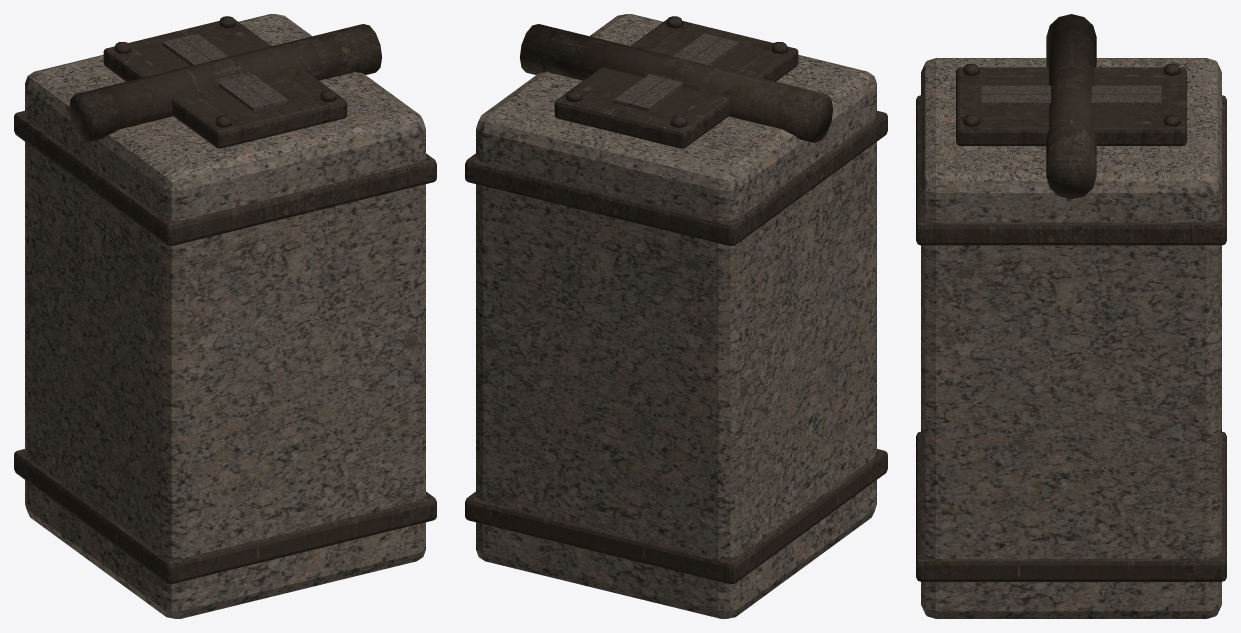
The model's file is lever_base.glb.
The picture shows the model from 3 angles, left to right: view 1: azimuth 30°, elevation 25°; view 2: azimuth 150°, elevation 25°; view 3: azimuth 270°, elevation 25°; orthographic projection.
Parts seen in each view (by area): view 1: lever_base; view 2: lever_base; view 3: lever_base.
Part boxes in pixels (bbox=[...]): lever_base: bbox=[14, 14, 436, 618]; lever_base: bbox=[465, 14, 887, 618]; lever_base: bbox=[916, 14, 1226, 618].
Size of the model in its own units: 0.66 by 1.05 by 0.62.
3 materials, 3 textured.
